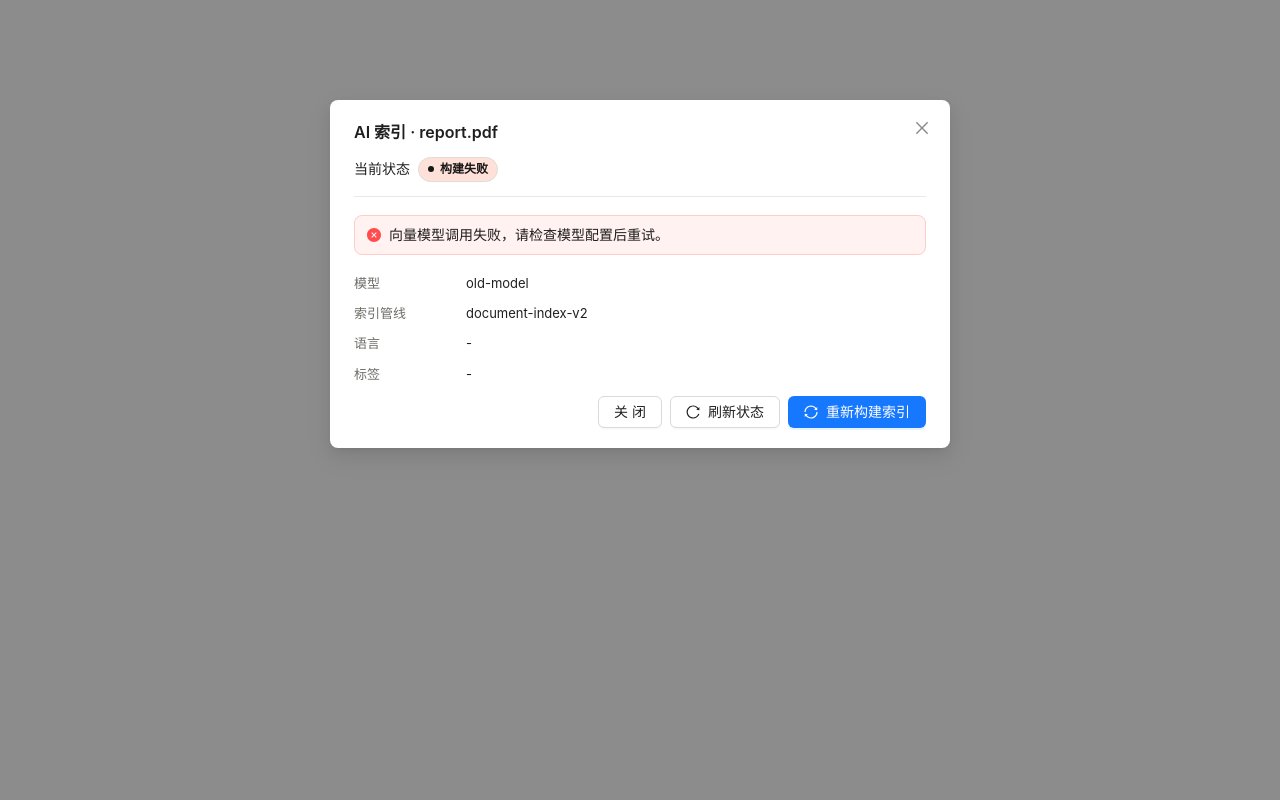
Scenario: reprocesses a failed AI index and refreshes its status
Expected: the text "构建失败" is shown, 418,156 -> 498,182
What coordinates should you click on to do the following:
click the button "重新构建索引"
I would click on:
 (857, 412)
Its box is 788,396 -> 926,428.
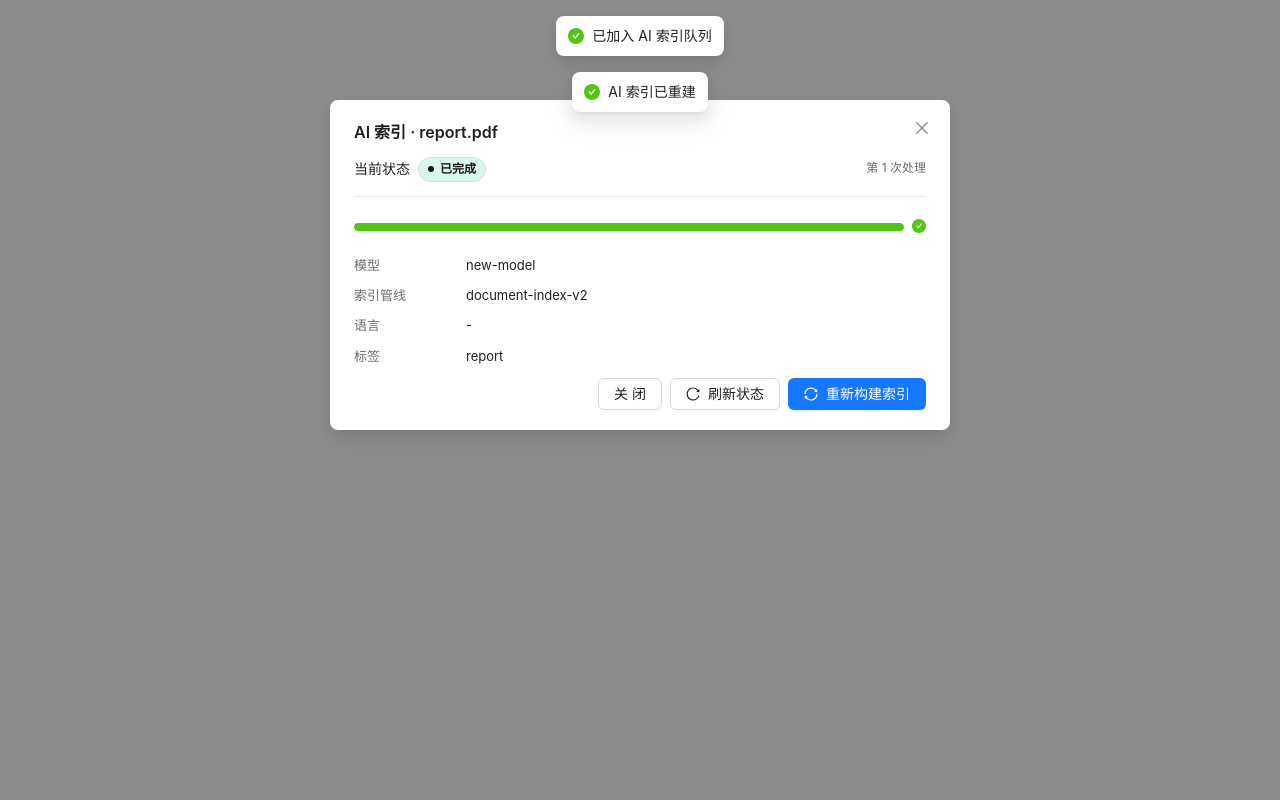
Now the text "已完成" is shown, box 418,156 -> 486,182
